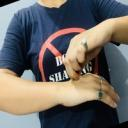hand: (63, 19, 117, 81), (61, 73, 121, 109)
